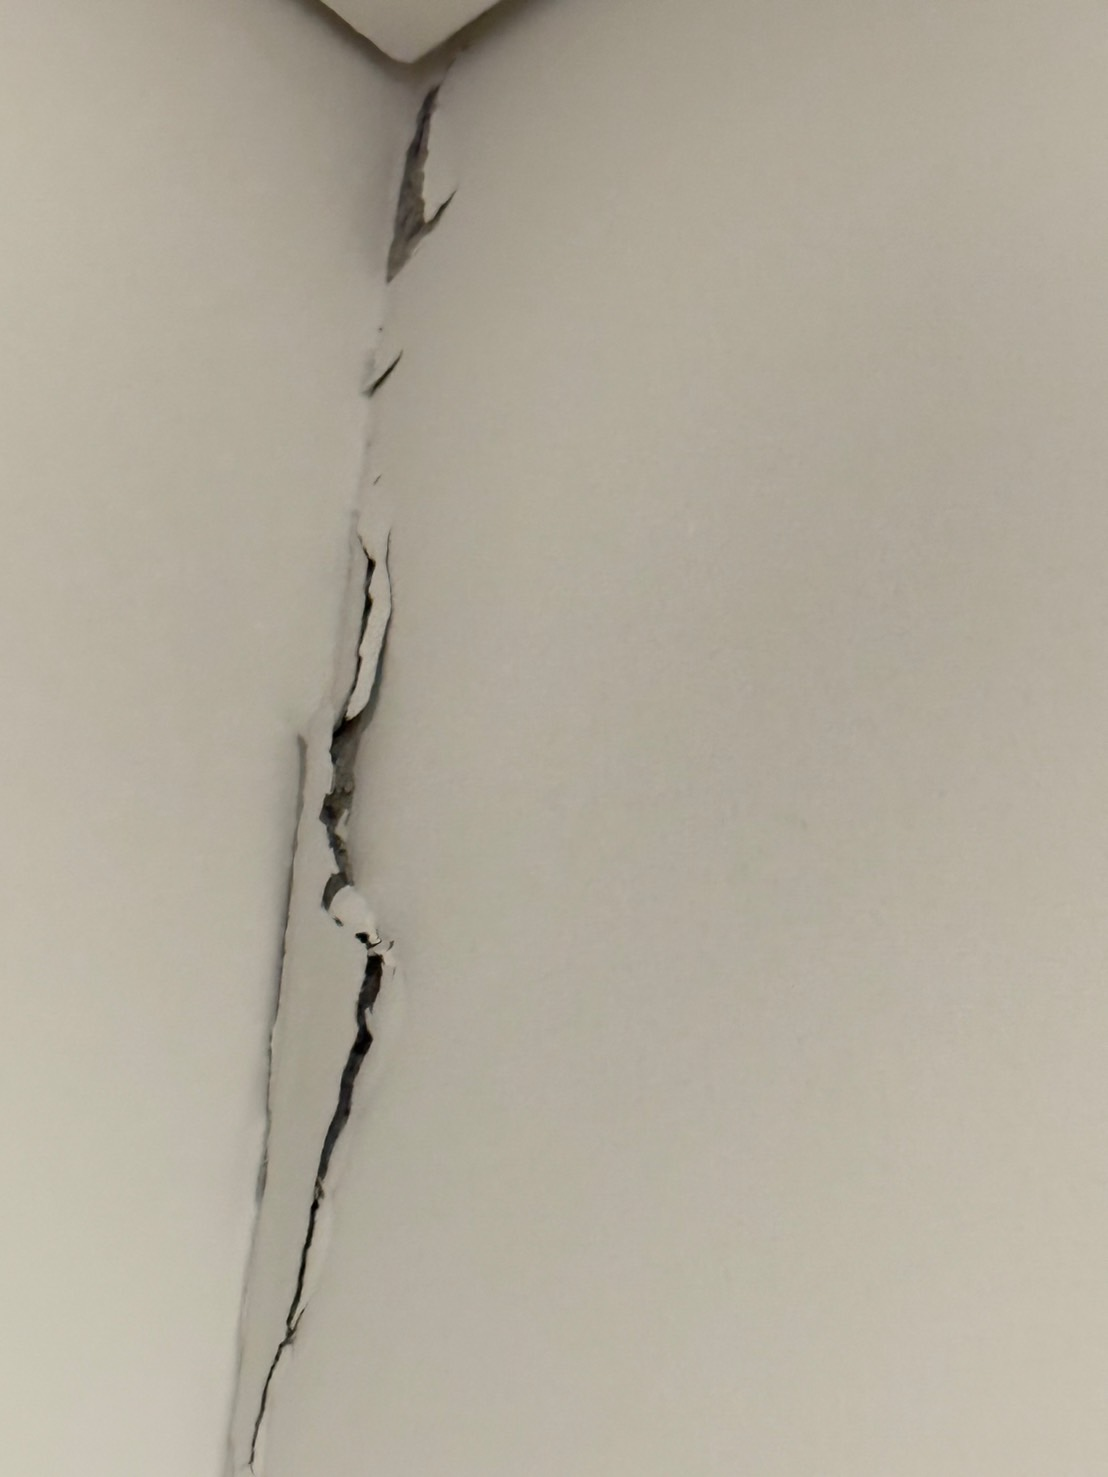Medium: (263, 311, 425, 1413)
